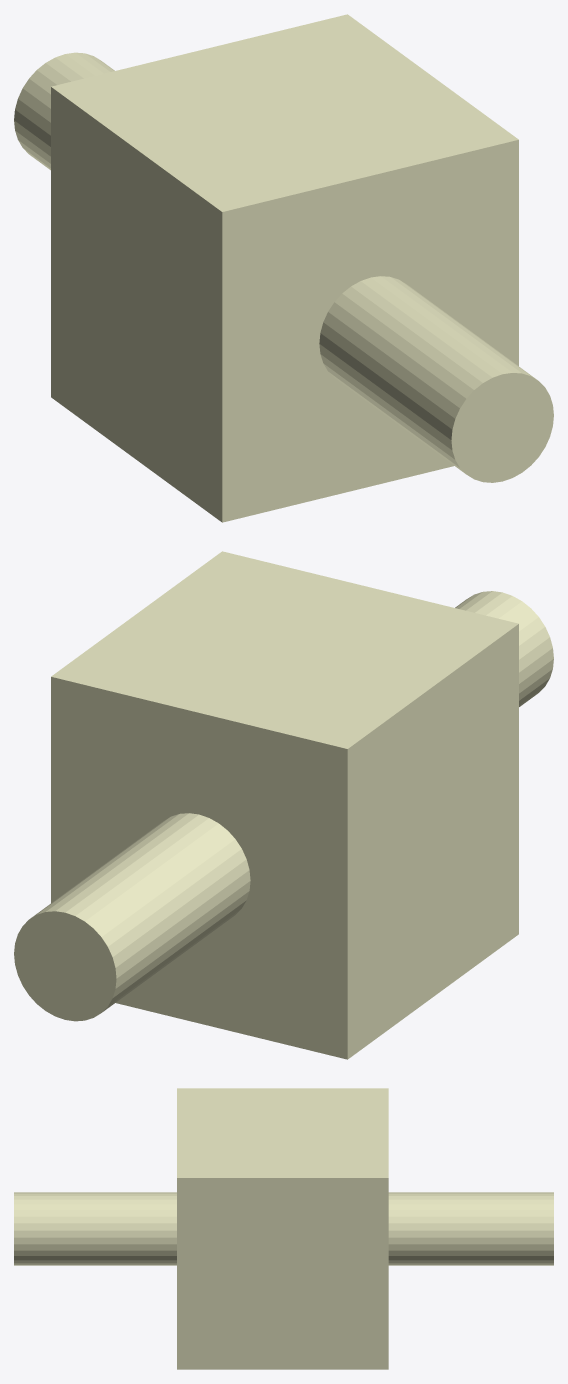
The model's file is NCCO.glb.
The picture shows the model from 3 angles, top to bottom: view 1: azimuth 30°, elevation 25°; view 2: azimuth 150°, elevation 25°; view 3: azimuth 270°, elevation 25°; orthographic projection. The views are drawn at different scales.
Visible parts, largest first — view 1: Cube, 866597079361000, 863013070187264; view 2: Cube, 863013070187264, 866597079361000; view 3: Cube, 863013070187264, 866597079361000.
Part boxes in pixels (x1,y1,x2,y2): Cube: (51, 14, 518, 522); 866597079361000: (319, 276, 553, 482); 863013070187264: (14, 52, 114, 170); Cube: (51, 551, 518, 1059); 863013070187264: (14, 813, 250, 1021); 866597079361000: (455, 591, 553, 706); Cube: (177, 1088, 388, 1369); 863013070187264: (388, 1192, 553, 1265); 866597079361000: (14, 1192, 176, 1265).
Size of the model in its own units: 5.66 by 5.66 by 14.45.
